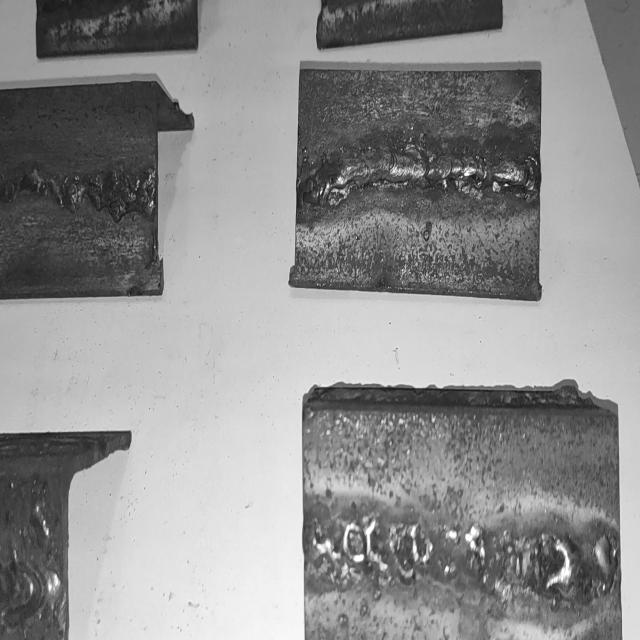Defect: (310, 518, 510, 598), (521, 524, 614, 606), (2, 556, 64, 629)
Good Weld: (301, 151, 539, 209), (0, 165, 156, 217)
